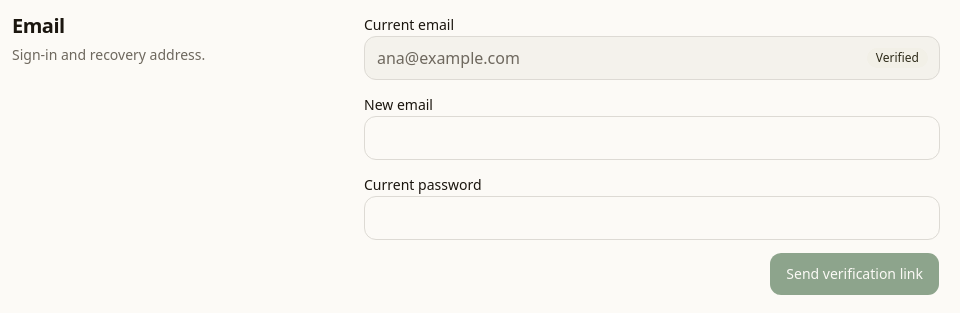
it: enables Send verification link only when both fields hold something
Type "ana.new@example.com" into the field labelled "New email" at (652, 138), box [364,116,940,160]
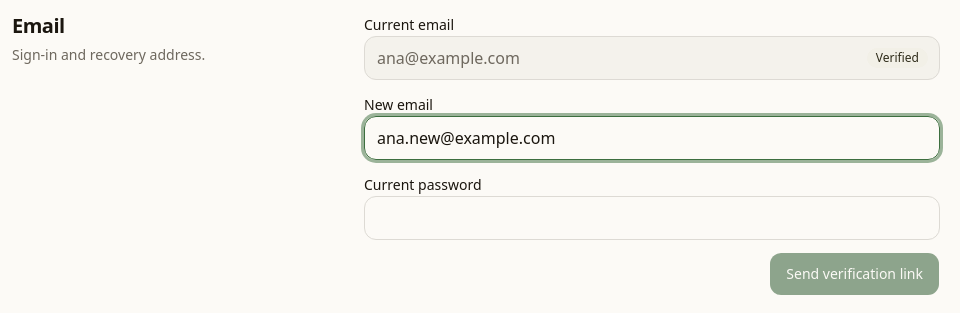
Expected: the button "Send verification link" is disabled, [769,252,940,296]
Type "x" into the password field labelled "Current password" at (652, 218), box [364,196,940,240]
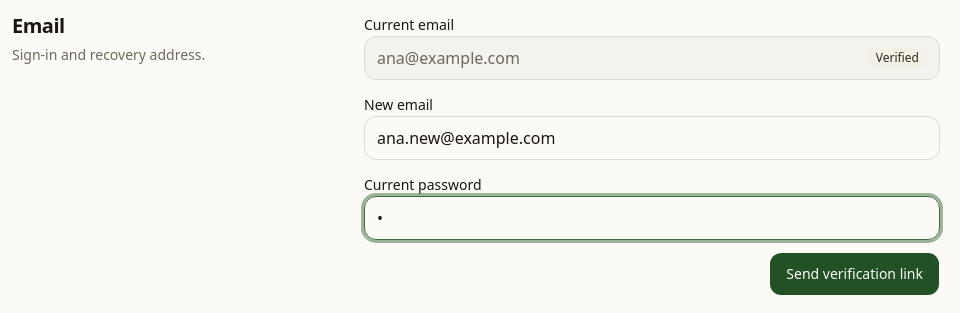
Expected: the button "Send verification link" is enabled, [769,252,940,296]
Clear the field labelled "New email" at (652, 138), box [364,116,940,160]
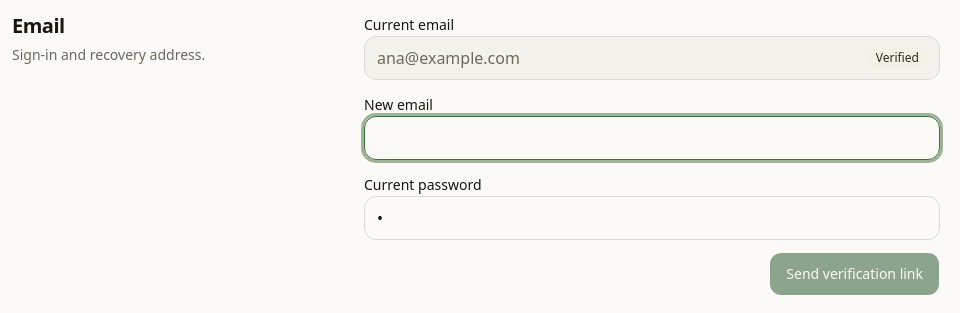
Expected: the button "Send verification link" is disabled, [769,252,940,296]
